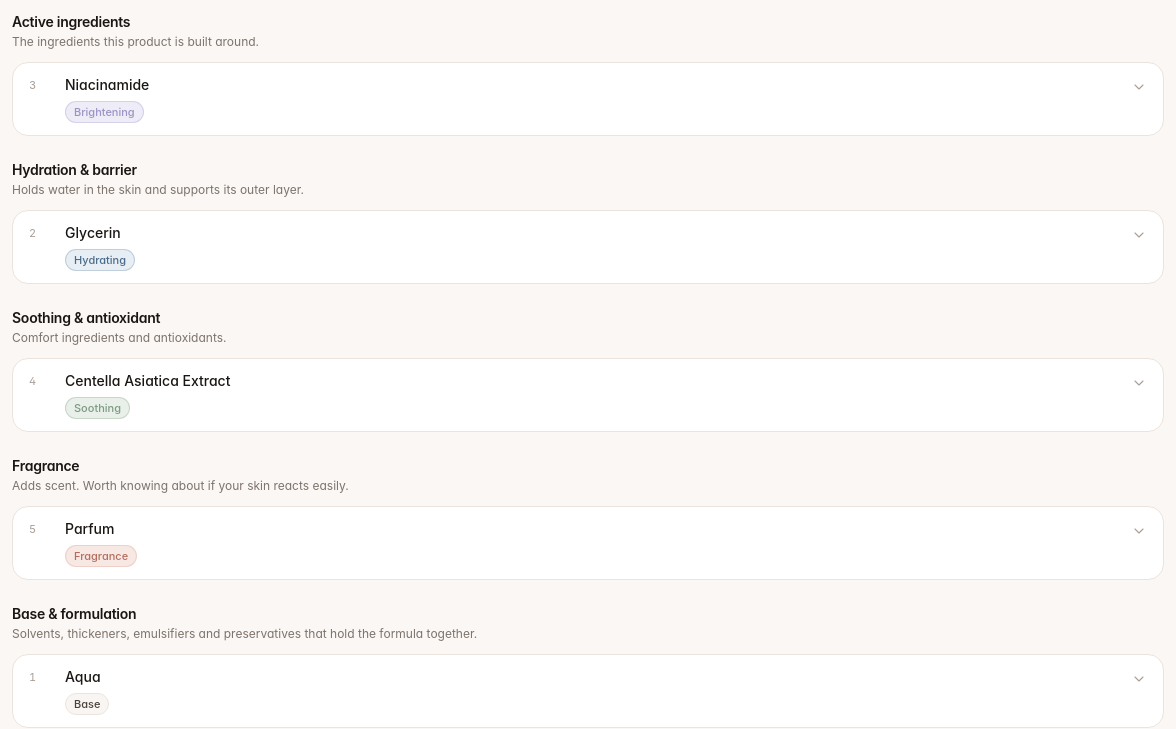
Test case: IngredientList › reveals the description and any caution note when a row is expanded
The image size is (1176, 729).
Click the button "5 Parfum Fragrance" at (90, 528), box [13,507,1163,579]
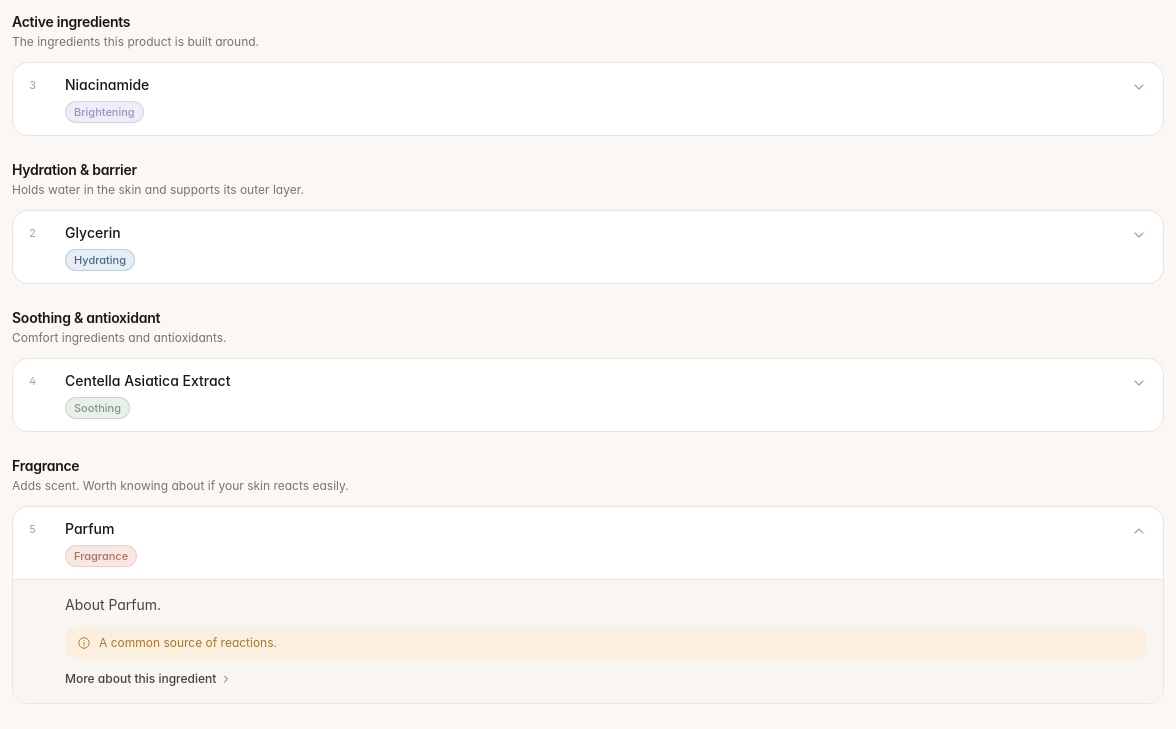
Expected: the text "About Parfum." is shown, [65,596,161,613]
Expected: the text "A common source of reactions." is shown, [99,635,277,651]
